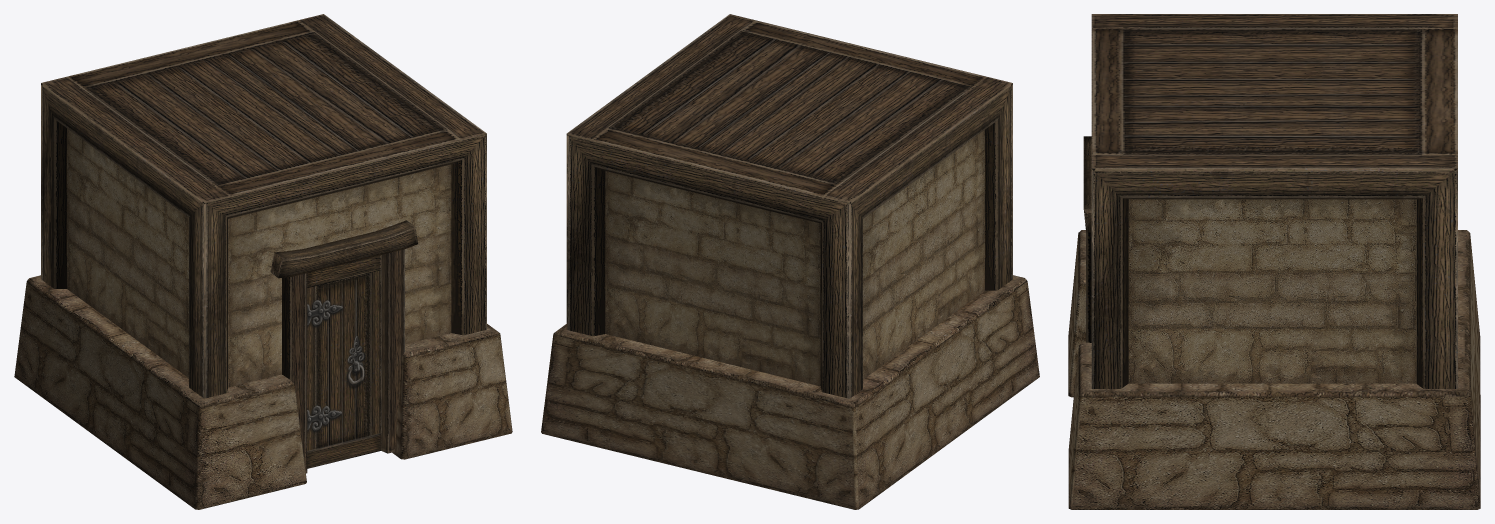
Rendered from House_4X4_01b.fbx.
The picture shows the model from 3 angles, left to right: view 1: azimuth 30°, elevation 25°; view 2: azimuth 150°, elevation 25°; view 3: azimuth 270°, elevation 25°; orthographic projection. The views are drawn at different scales.
Parts seen in each view (by area): view 1: House_4X4_01b; view 2: House_4X4_01b; view 3: House_4X4_01b.
Part boxes in pixels (left/top/right/bottom): House_4X4_01b: left=14, top=14, right=512, bottom=509; House_4X4_01b: left=541, top=14, right=1039, bottom=509; House_4X4_01b: left=1068, top=14, right=1480, bottom=509.
Bounding box in the file's own units: 4.49 × 4 × 4.5.
